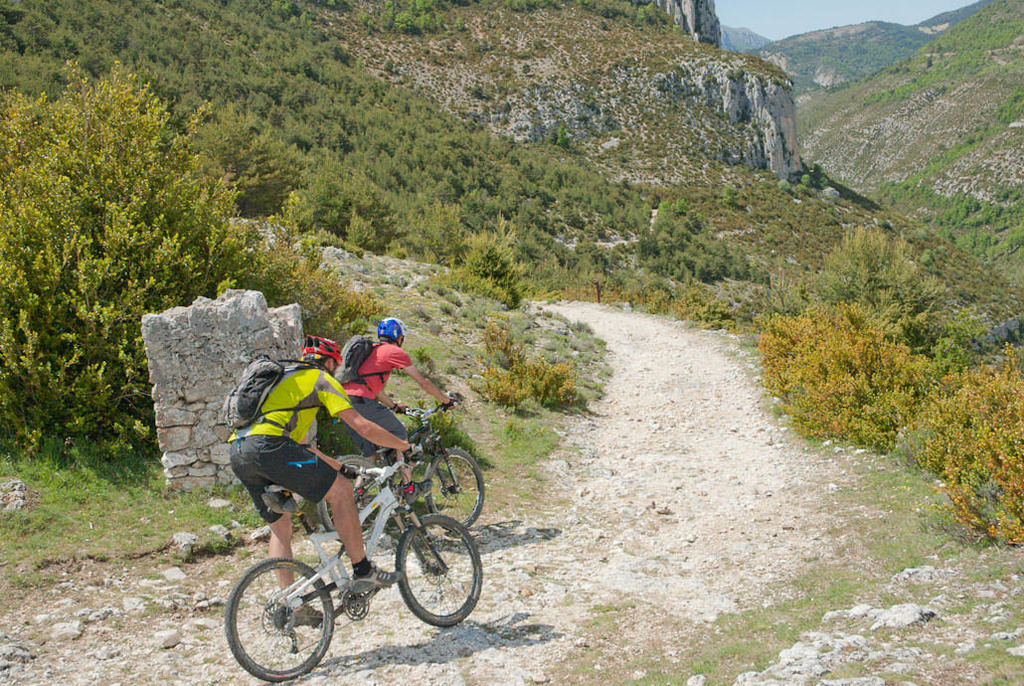Bike: (222, 467, 494, 680)
